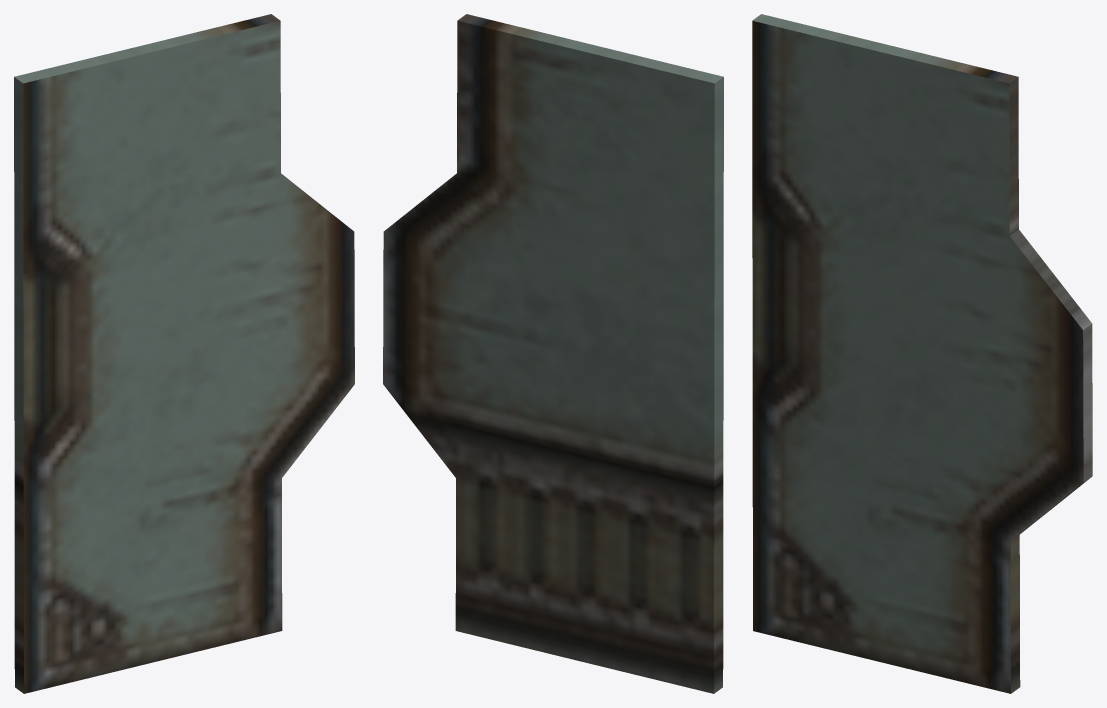
The model's file is door_bulk_left.fbx.
3 views of the same model, side by side, from view 1: azimuth 30°, elevation 25°; view 2: azimuth 150°, elevation 25°; view 3: azimuth 330°, elevation 25° (orthographic).
Parts seen in each view (by area): view 1: BulkDoorLeft; view 2: BulkDoorLeft; view 3: BulkDoorLeft.
Part boxes in pixels (box(x1,y1,x2,y2)): BulkDoorLeft: box(14, 14, 354, 693); BulkDoorLeft: box(383, 14, 723, 693); BulkDoorLeft: box(752, 14, 1092, 693).
Bounding box in the file's own units: 243 × 428 × 11.64.
Materials: 1 (1 with a texture image).
